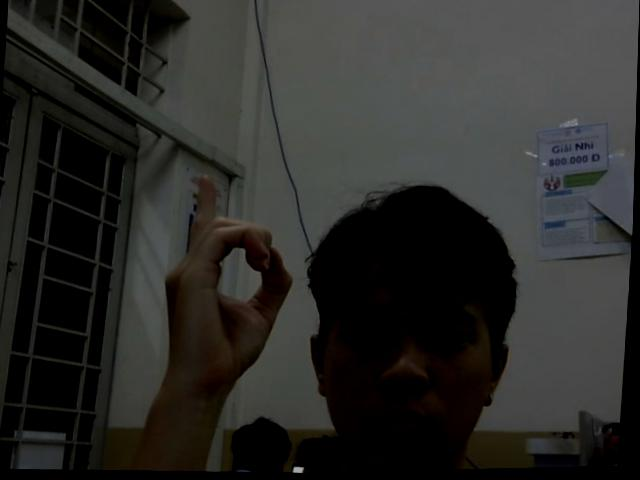D: (156, 168, 302, 394)
